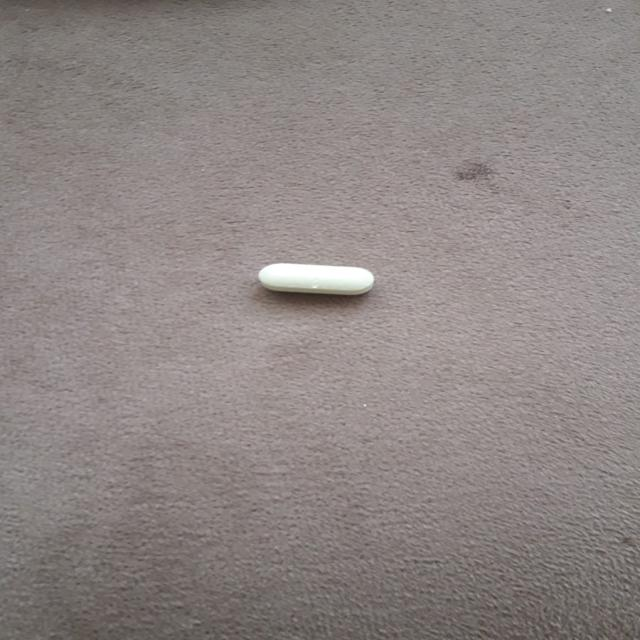pills: (240, 250, 391, 302)
